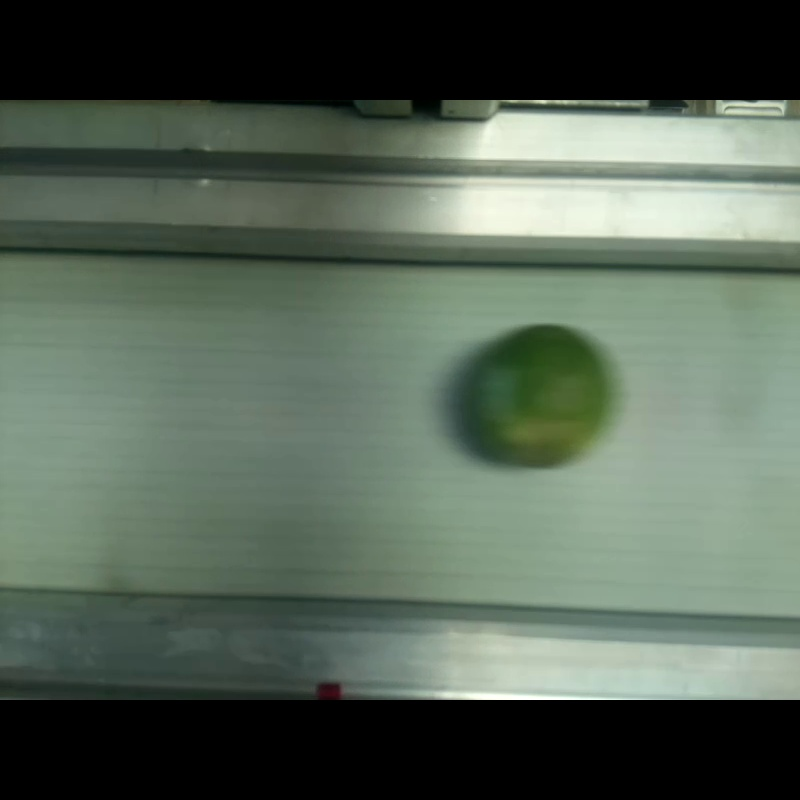lime: (470, 324, 604, 468)
